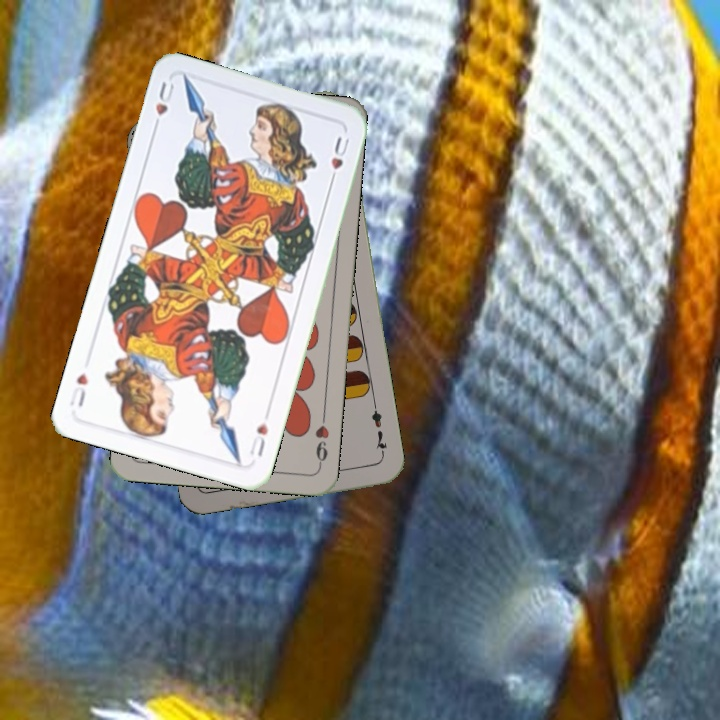E7: (367, 400, 390, 459)
H9: (311, 411, 332, 470)
HU: (149, 78, 177, 134), (245, 418, 271, 461)
